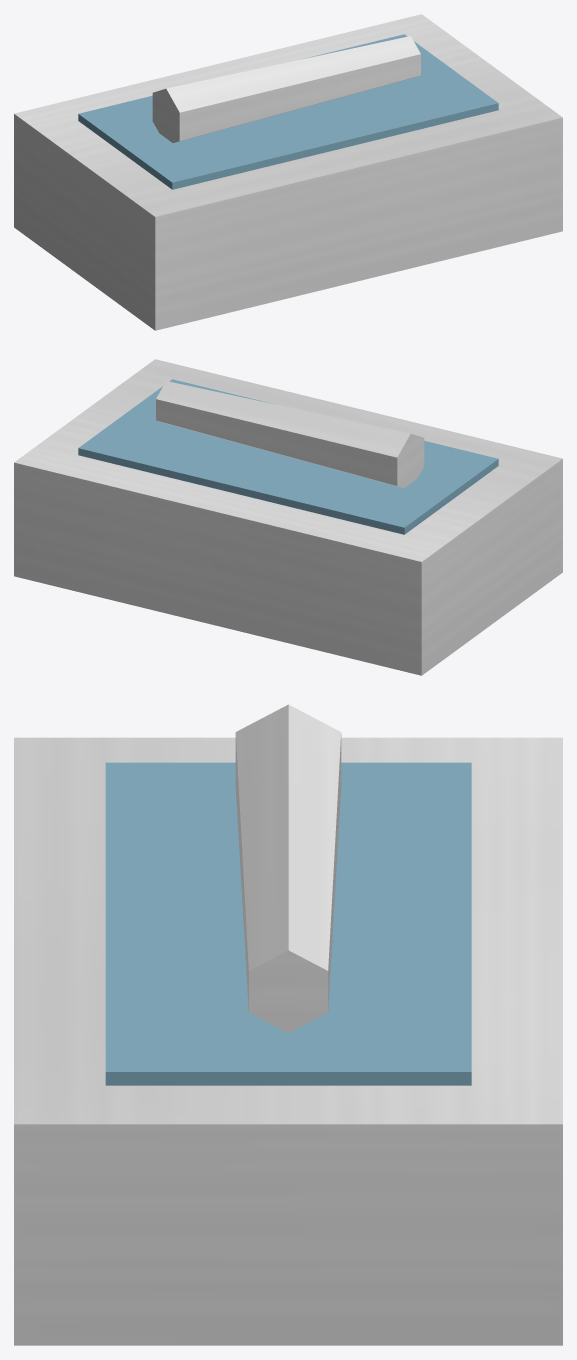
The model's file is item_bionic.obj.
The picture shows the model from 3 angles, top to bottom: view 1: azimuth 30°, elevation 25°; view 2: azimuth 150°, elevation 25°; view 3: azimuth 270°, elevation 25°; orthographic projection. The views are drawn at different scales.
Parts seen in each view (by area): view 1: item_bionic; view 2: item_bionic; view 3: item_bionic.
Boxes of the visible parts, box(x1,y1,x2,y2) form: item_bionic: box(14, 14, 562, 330); item_bionic: box(14, 359, 562, 675); item_bionic: box(14, 704, 562, 1345).
Size of the model in its own units: 0.6 by 0.24 by 0.36.
